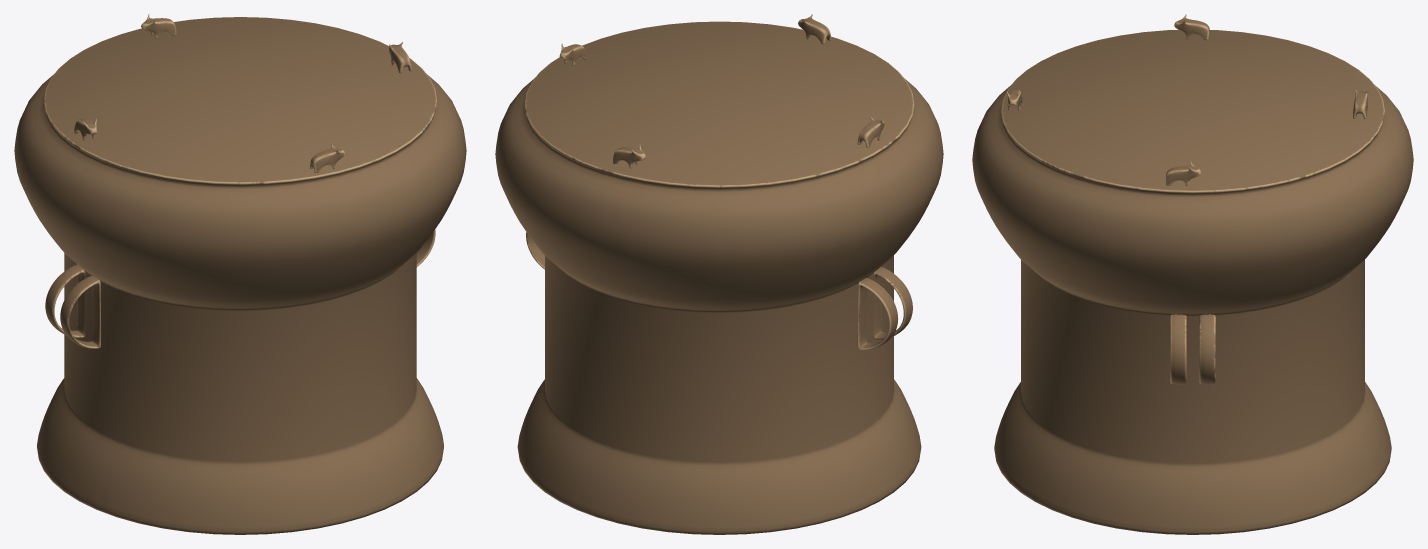
The model's file is TrongDong1.glb.
The picture shows the model from 3 angles, left to right: view 1: azimuth 30°, elevation 25°; view 2: azimuth 150°, elevation 25°; view 3: azimuth 270°, elevation 25°; orthographic projection. The views are drawn at different scales.
Parts seen in each view (by area): view 1: Sphere001_trong dong_0; view 2: Sphere001_trong dong_0; view 3: Sphere001_trong dong_0.
Boxes of the visible parts, x1,y1,x2,y2 form: Sphere001_trong dong_0: (14, 14, 466, 534); Sphere001_trong dong_0: (495, 14, 943, 534); Sphere001_trong dong_0: (972, 14, 1413, 534).
Size of the model in its own units: 1.67 by 1.51 by 1.67.
Materials: 1 (1 with a texture image).
